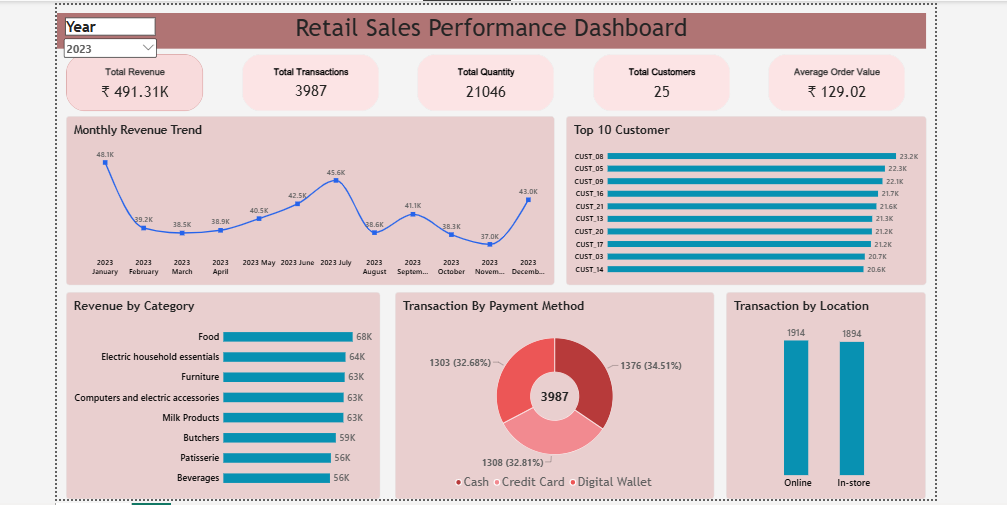

What the dashboard file says about the page in this screenshot:
{"tool":"powerbi","page":{"name":"Page 1","canvas":[1920,1080],"ordinal":0},"visuals":[{"type":"textbox","box":[0,17.5,1900,77.5],"z":0},{"type":"cardVisual","fields":{"Data":["Sum(Sheet1.Total Spent)"]},"box":[20,107.5,300,125],"z":1000},{"type":"cardVisual","fields":{"Data":["Count(Sheet1.Transaction ID)"]},"box":[403.8,107.5,300,125],"z":2000},{"type":"cardVisual","title":"Average Transaction Value","fields":{"Data":["Avg(Sheet1.Total Spent)"]},"box":[1555,107.5,300,125],"z":3000},{"type":"lineChart","title":"Monthly Revenue Trend","fields":{"Category":["Sheet1.Transaction Date.Variation.Date Hierarchy.Year","Sheet1.Transaction Date.Variation.Date Hierarchy.Month"],"Y":["Sum(Sheet1.Total Spent)"]},"box":[20,242.5,1067.5,370],"z":4000},{"type":"clusteredBarChart","title":"Revenue by Category","fields":{"Category":["Sheet1.Category"],"Y":["Sum(Sheet1.Total Spent)"]},"box":[20,626.7,686.7,453.3],"z":5000},{"type":"donutChart","title":"Transaction By Payment Method","fields":{"Category":["Sheet1.Payment Method"],"Y":["CountNonNull(Sheet1.Transaction ID)"]},"box":[740,626.7,698.3,453.3],"z":6000},{"type":"columnChart","title":"Transaction by Location","fields":{"Category":["Sheet1.Location"],"Y":["CountNonNull(Sheet1.Total Spent)"]},"box":[1463.3,626.7,436.7,453.3],"z":7000},{"type":"barChart","title":"Top 10 Customer","fields":{"Category":["Sheet1.Customer ID"],"Y":["Sum(Sheet1.Total Spent)"]},"box":[1112.5,242.5,787.5,370],"z":8000},{"type":"slicer","fields":{"Values":["Sheet1.Year"]},"box":[0,17.5,232.5,108],"z":9000},{"type":"cardVisual","title":"Average Transaction Value","fields":{"Data":["Sum(Sheet1.Quantity)"]},"box":[787.5,107.5,300,125],"z":10000},{"type":"cardVisual","title":"Average Transaction Value","fields":{"Data":["Count(Sheet1.Customer ID)"]},"box":[1171.2,107.5,300,125],"z":11000}]}

Visuals, with their boxes on the page's 1920x1080 design canvas (x1, y1, x2, y2). These are canvas units, not pixel positions in the 1007x505 screenshot, which may show the page scaled, cropped or inside an application window:
textbox: (0, 18, 1900, 95)
cardVisual - Sum(Sheet1.Total Spent): (20, 108, 320, 232)
cardVisual - Count(Sheet1.Transaction ID): (404, 108, 704, 232)
"Average Transaction Value" cardVisual: (1555, 108, 1855, 232)
"Monthly Revenue Trend" lineChart: (20, 242, 1088, 612)
"Revenue by Category" clusteredBarChart: (20, 627, 707, 1080)
"Transaction By Payment Method" donutChart: (740, 627, 1438, 1080)
"Transaction by Location" columnChart: (1463, 627, 1900, 1080)
"Top 10 Customer" barChart: (1112, 242, 1900, 612)
slicer - Sheet1.Year: (0, 18, 232, 126)
"Average Transaction Value" cardVisual: (788, 108, 1088, 232)
"Average Transaction Value" cardVisual: (1171, 108, 1471, 232)
